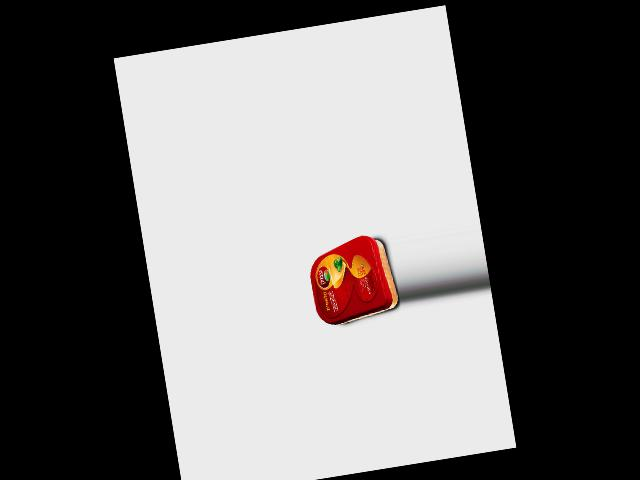cheese: (305, 231, 400, 327)
